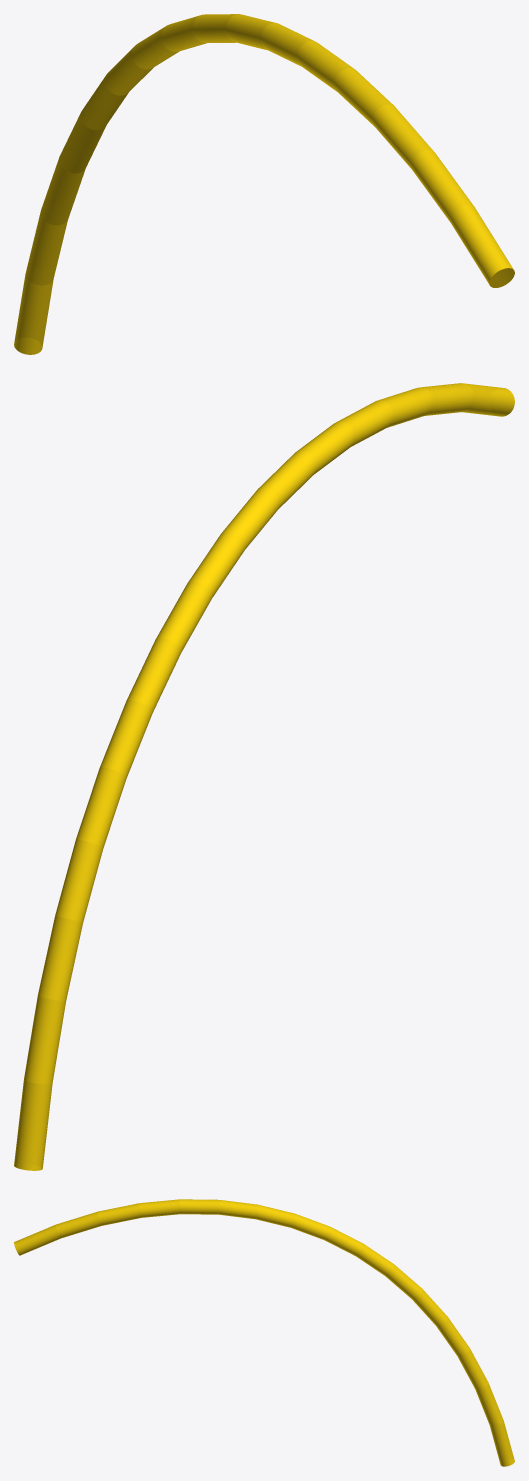
Rendered from Event_421127236_track_54.fbx.
3 renders of one model, top to bottom at view 1: azimuth 30°, elevation 25°; view 2: azimuth 150°, elevation 25°; view 3: azimuth 270°, elevation 25°, orthographic. The views are drawn at different scales.
Parts seen in each view (by area): view 1: Model; view 2: Model; view 3: Model.
Part boxes in pixels (<box>): Model: <box>14,14,514,354</box>; Model: <box>14,383,514,1170</box>; Model: <box>14,1199,514,1466</box>.
Bounding box in the file's own units: 0.0461 × 0.784 × 1.34.
